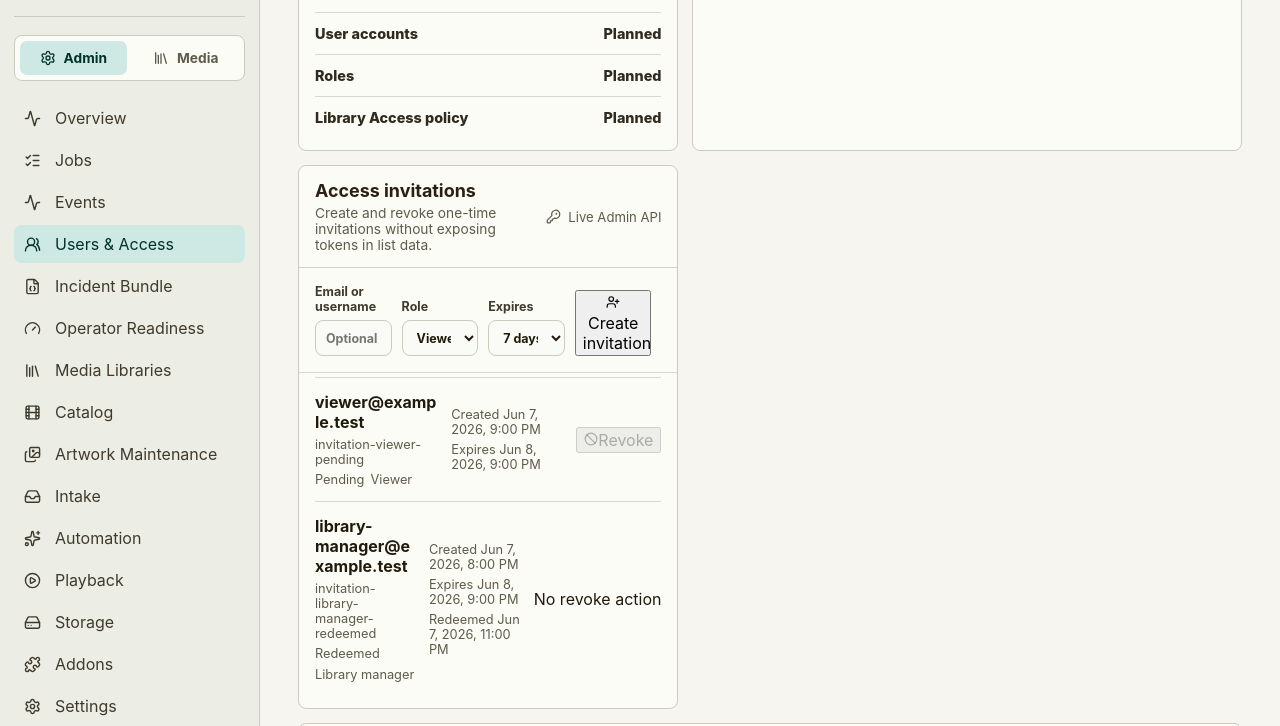
Test: Admin Web V2 route shell › creates Access invitations and shows the one-time token only after live mutation
The image size is (1280, 726).
(page scrolled)
expect the heading "Access invitations" is shown: met, box [315,180,476,201]
Type "created@example.test" into the field labelled "Email or username" at (353, 338), box [315,320,392,356]
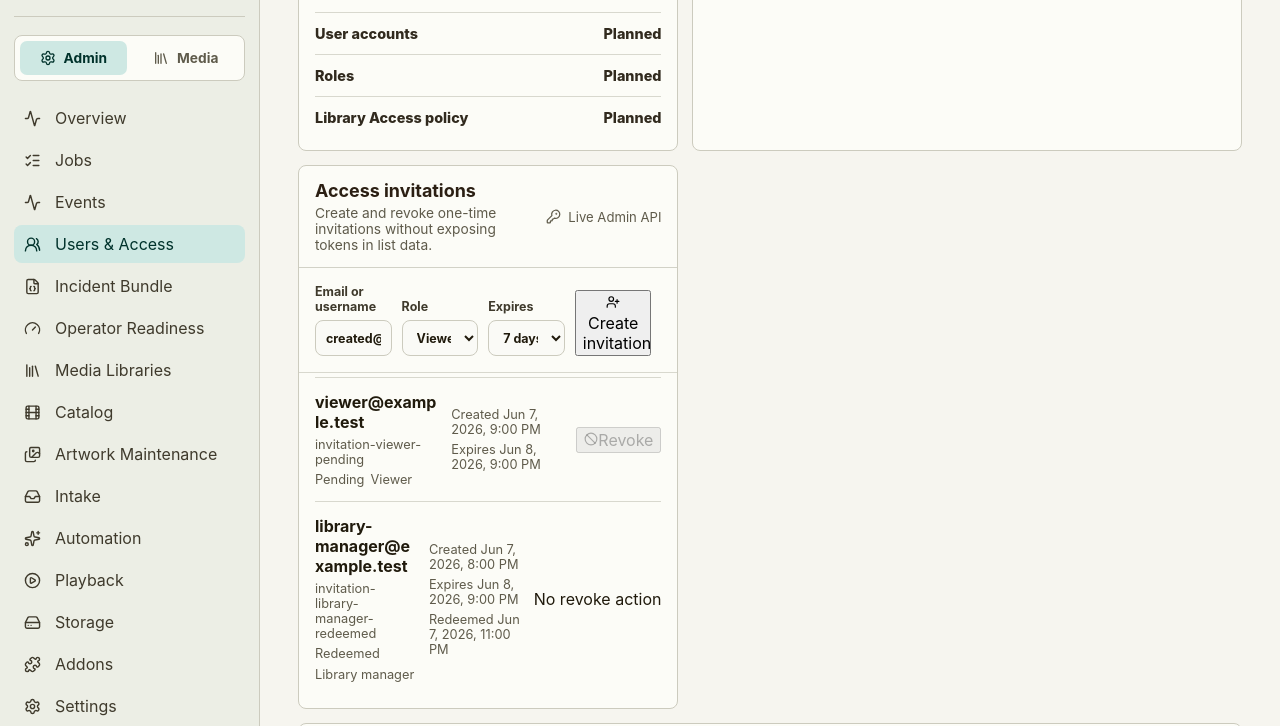
Select "Administrator" in the dropdown labelled "Role" at (440, 338), box [402,320,478,356]
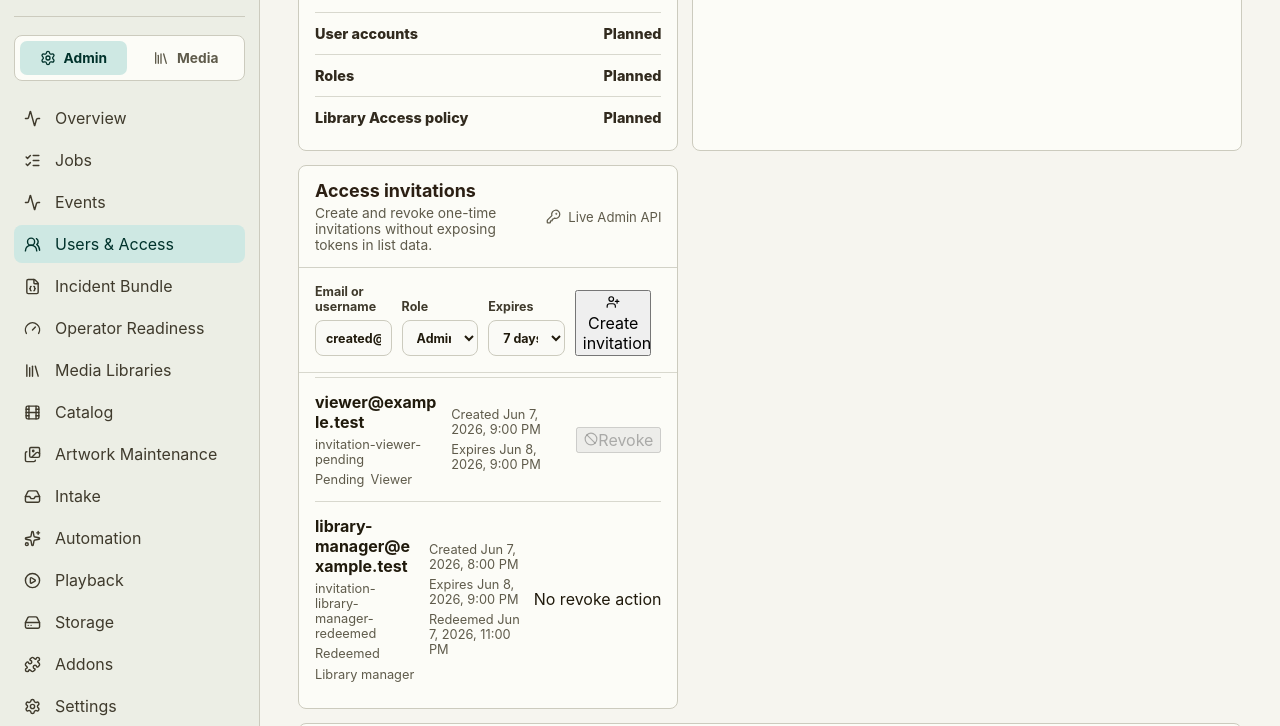
Select "24 hours" in the dropdown labelled "Expires" at (526, 338), box [488,320,565,356]
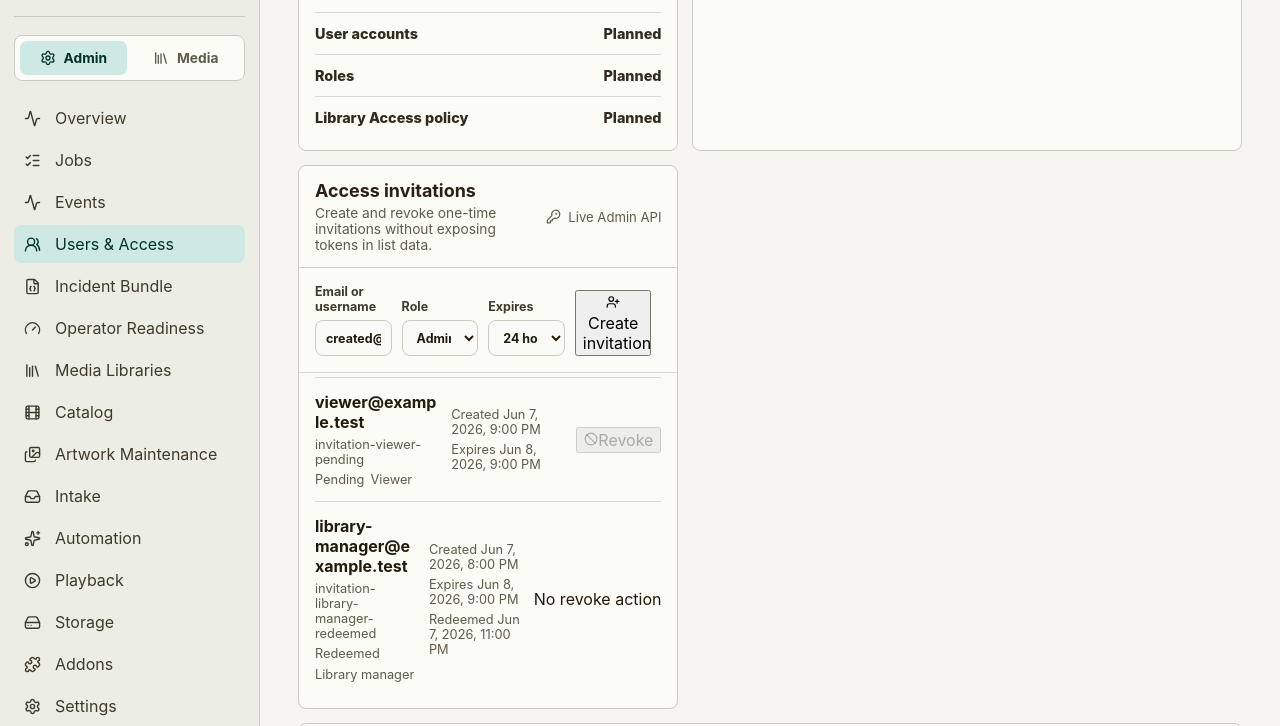
Click the button "Create invitation" at (613, 323), box [575,290,651,356]
(page scrolled)
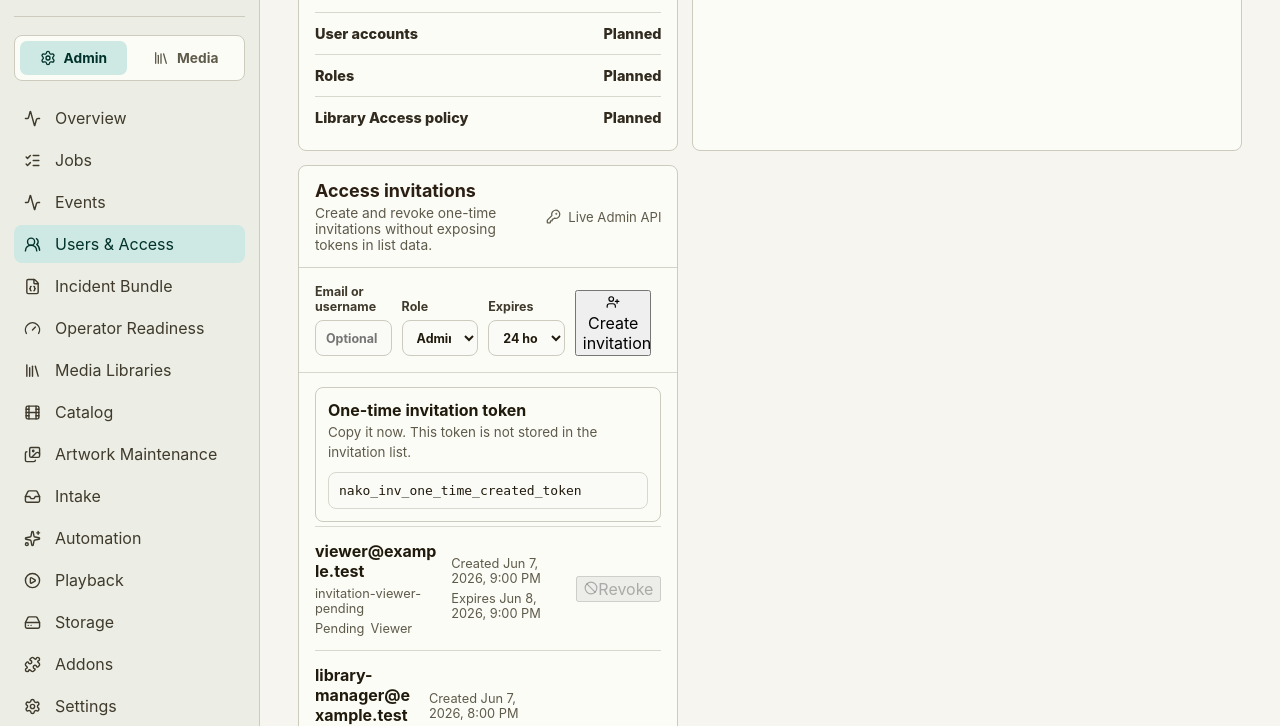
expect the text "One-time invitation token" is shown: met, box [328,400,526,420]
expect the text "nako_inv_one_time_created_token" is shown: met, box [328,472,648,509]
